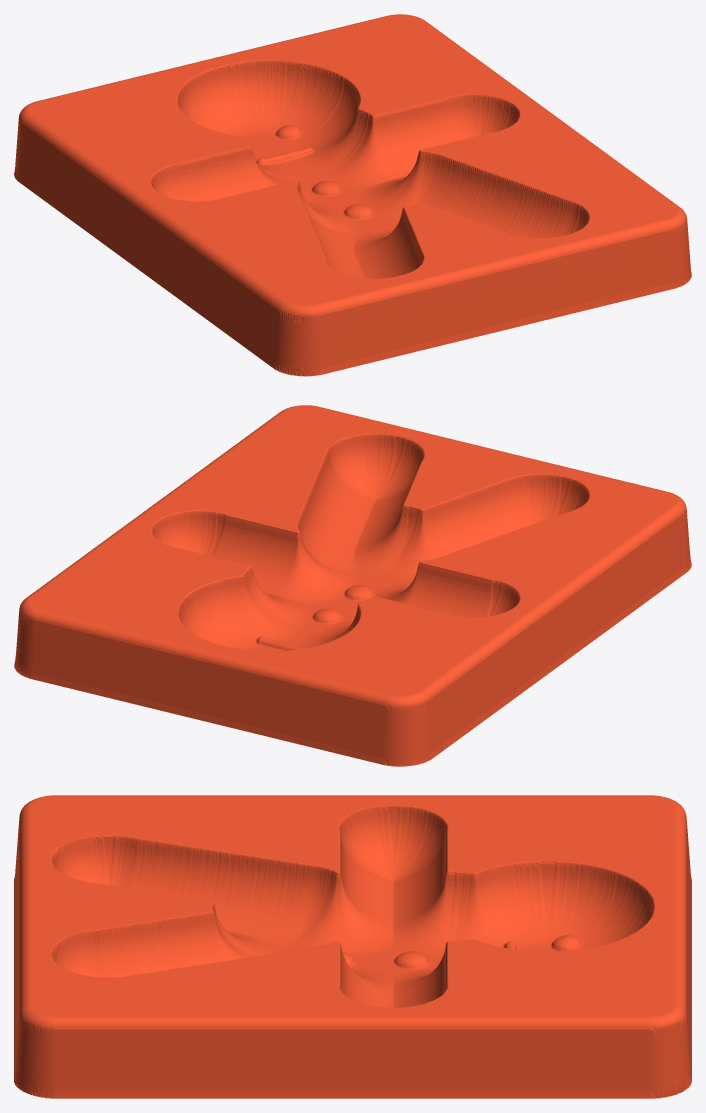
File: mold.glb
3 renders of one model, top to bottom at view 1: azimuth 30°, elevation 25°; view 2: azimuth 150°, elevation 25°; view 3: azimuth 270°, elevation 25°, orthographic. The views are drawn at different scales.
Parts seen in each view (by area): view 1: geometry_0; view 2: geometry_0; view 3: geometry_0.
Part boxes in pixels (<box>): geometry_0: <box>14,14,691,376</box>; geometry_0: <box>14,405,691,766</box>; geometry_0: <box>14,795,691,1098</box>.
Size of the model in its own units: 0.1174 by 0.0175 by 0.1435.
